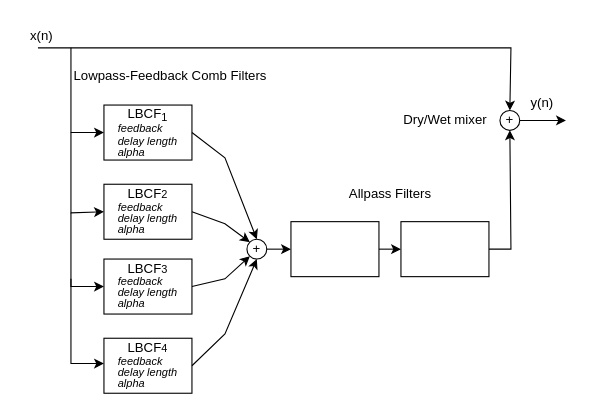
Image size: 594x413. Some labels were removed from this diagram. The shapes that lost their labels are listed below. From the top down, each one's centre as x and y in pixels, then its label:
pixel 334 249: A 1 feedback delay length
pixel 444 249: A 2 feedback delay length
